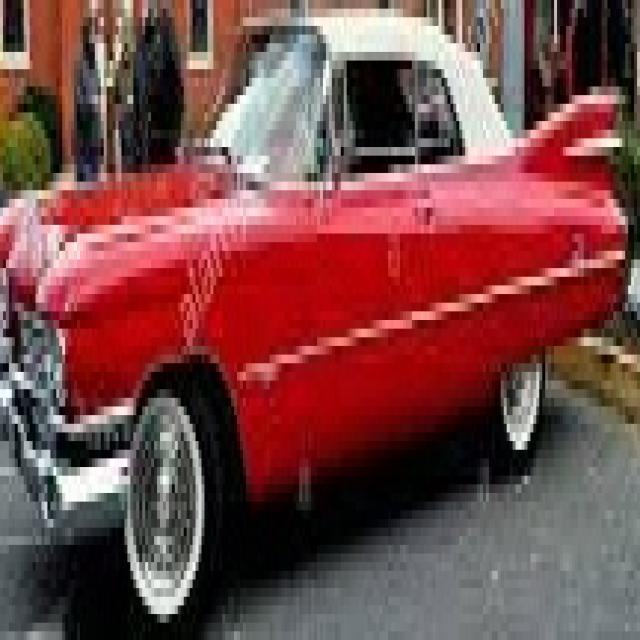red: (0, 0, 622, 536)
